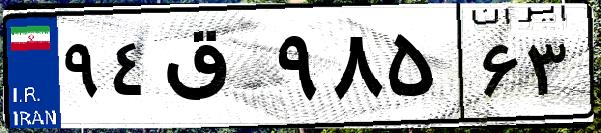3: (525, 38, 570, 115)
4: (110, 28, 158, 98)
5: (385, 28, 445, 110)
6: (475, 38, 525, 113)
8: (330, 28, 385, 110)
9: (270, 28, 330, 110), (57, 26, 110, 100)
ق: (158, 20, 270, 120)
